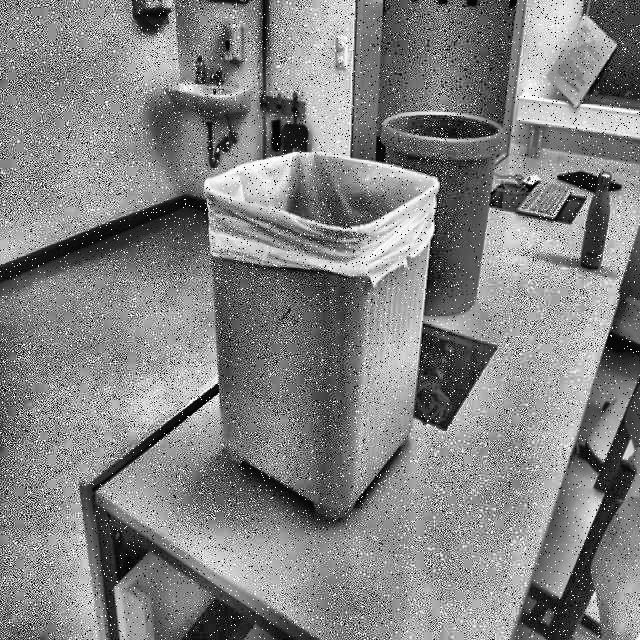Dustbin: (176, 74, 440, 524)
